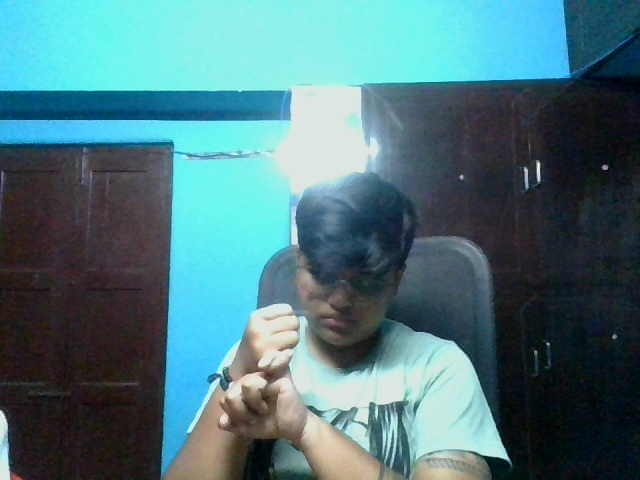S: (218, 298, 303, 447)
